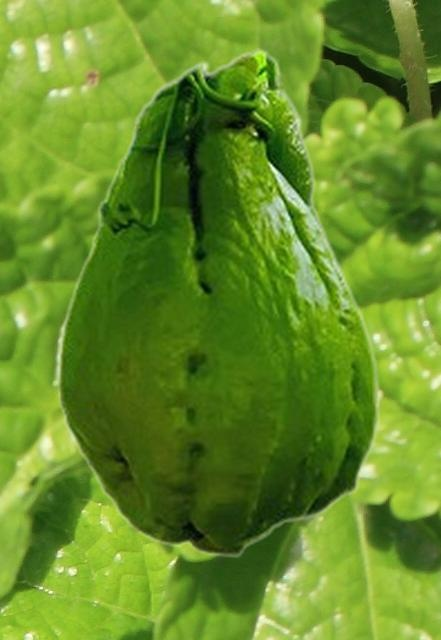sayote: (56, 48, 380, 558)
